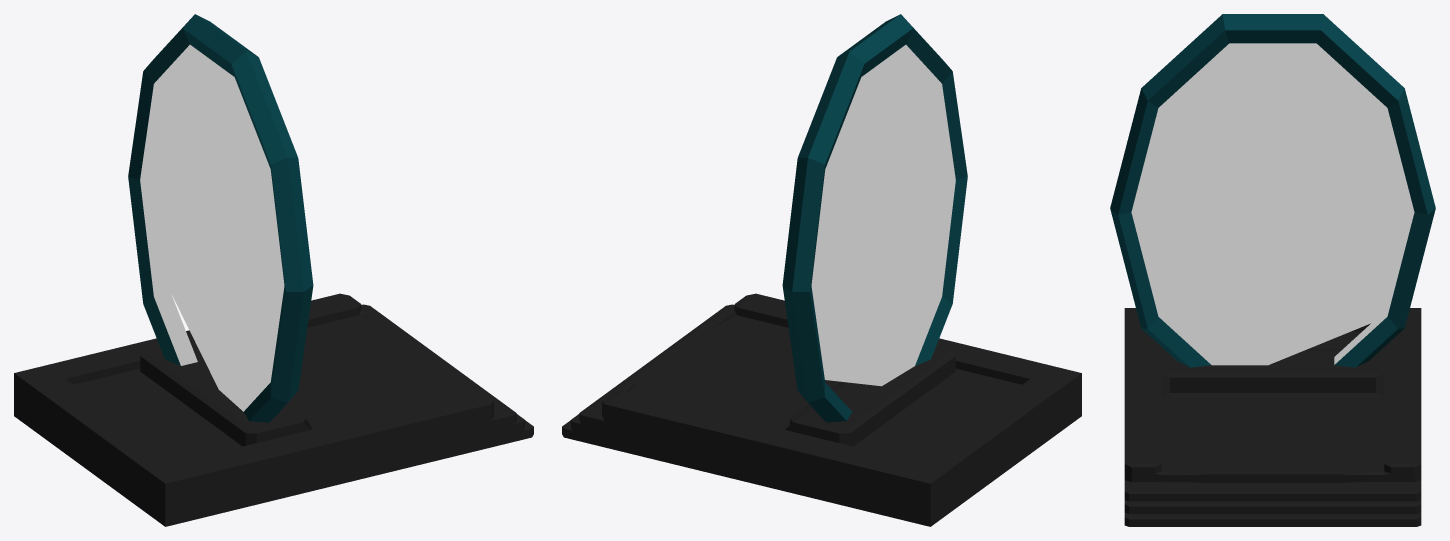
Rendered from Portal.obj.
3 renders of one model, left to right at view 1: azimuth 30°, elevation 25°; view 2: azimuth 150°, elevation 25°; view 3: azimuth 270°, elevation 25°, orthographic. The views are drawn at different scales.
Parts seen in each view (by area): view 1: Cube, Torus.001, Torus.003; view 2: Cube, Torus.001, Torus.003; view 3: Torus.001, Cube, Torus.003.
Part boxes in pixels (x1,y1,x2,y2): Cube: [14, 293, 533, 526]; Torus.001: [140, 45, 284, 411]; Torus.003: [128, 14, 313, 422]; Cube: [562, 293, 1081, 526]; Torus.001: [811, 45, 955, 386]; Torus.003: [782, 14, 967, 422]; Torus.001: [1131, 43, 1414, 365]; Cube: [1124, 308, 1421, 526]; Torus.003: [1110, 14, 1435, 367].
Size of the model in its own units: 2.83 by 2.97 by 2.2.
